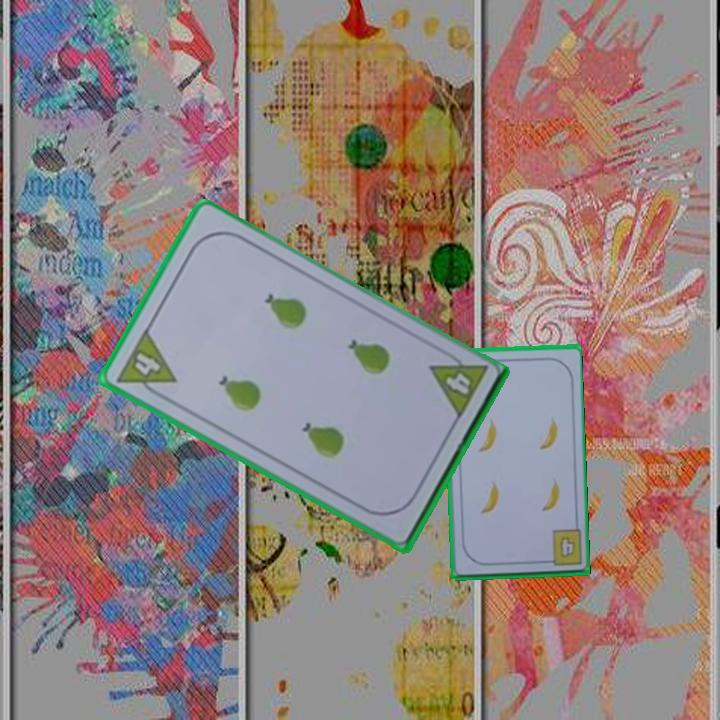4b: (556, 532, 578, 560)
4p: (113, 325, 179, 404), (426, 345, 490, 423)
